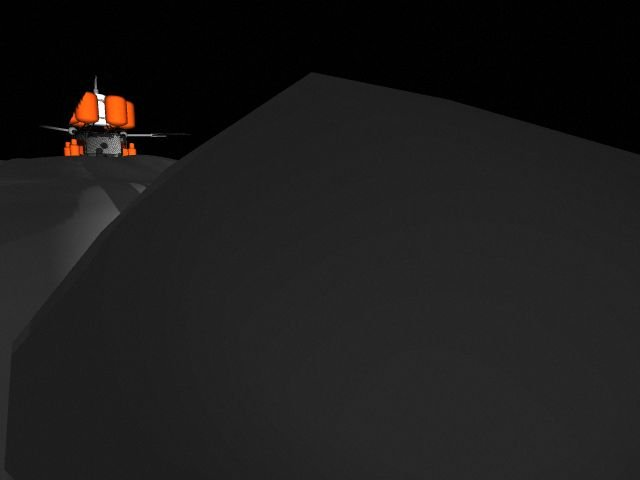homebase: (18, 53, 176, 169)
